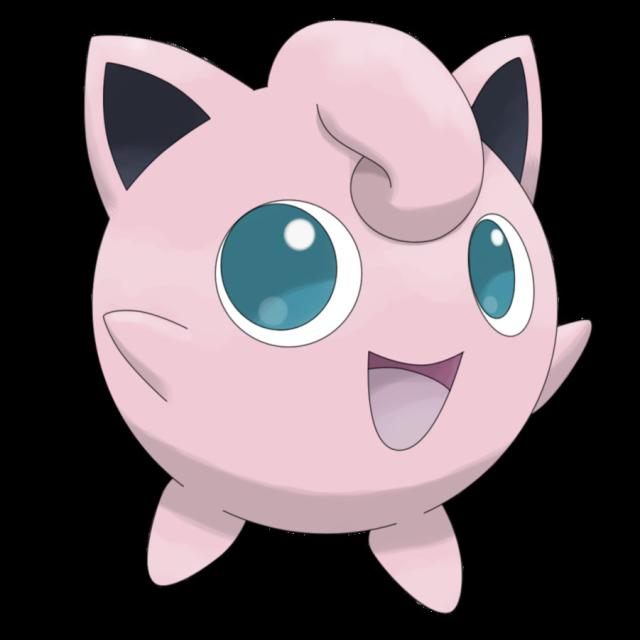Jigglypuff: (57, 27, 602, 608)
